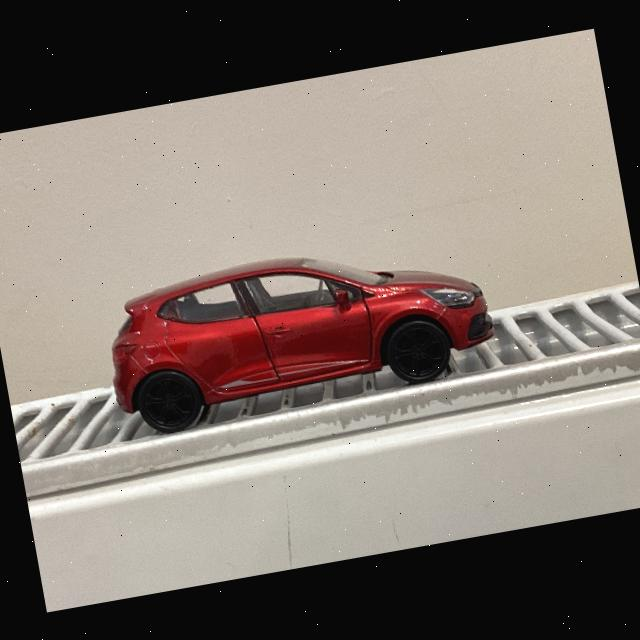Dogru_Jant: (140, 374, 194, 427), (392, 324, 446, 376)
